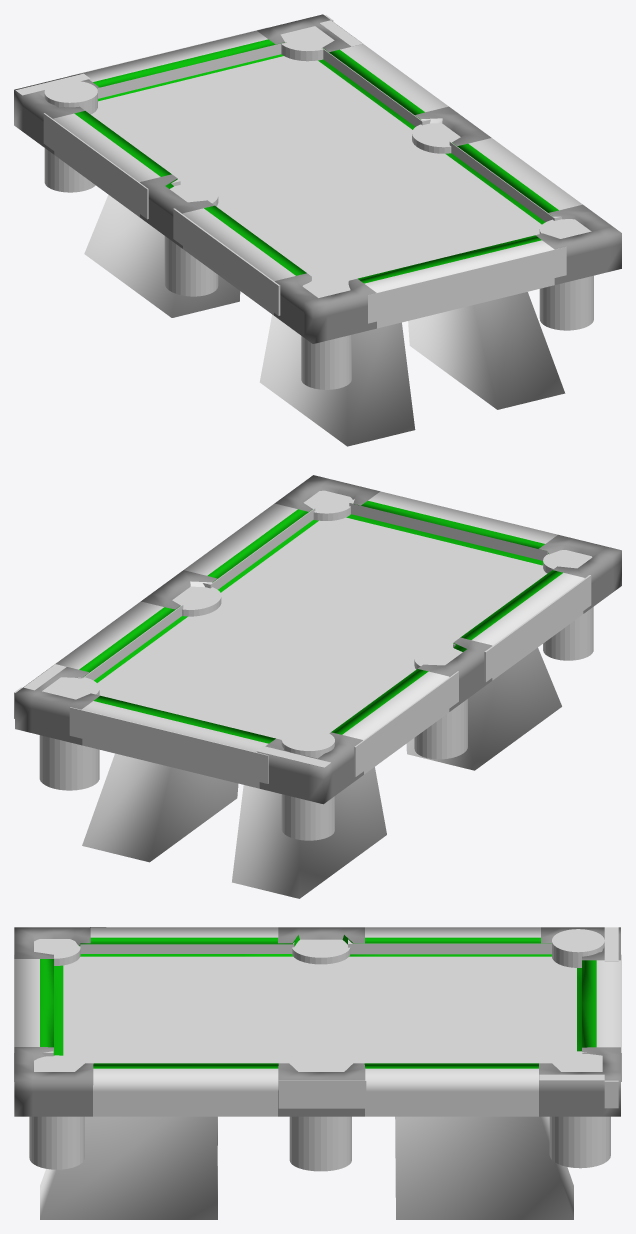
File: table0.glb
The picture shows the model from 3 angles, top to bottom: view 1: azimuth 30°, elevation 25°; view 2: azimuth 150°, elevation 25°; view 3: azimuth 270°, elevation 25°; orthographic projection.
Visible parts, largest first — view 1: Plane.001, main, box5, box3, box4, hole4, hole5, hole6, hole2, box6, hole3, box2 (+2 smaller); view 2: Plane.001, main, box6, hole3, box3, hole2, box4, hole6, hole5, box5, box2, hole1 (+2 smaller); view 3: Plane.001, main, hole1, hole3, hole4, box12, box4, box3, hole2, hole6, hole5, box8 (+2 smaller).
Boxes of the visible parts, <box> form: Plane.001: <box>14,14,621,446</box>; main: <box>91,56,541,283</box>; box5: <box>348,232,566,323</box>; box3: <box>173,208,311,315</box>; box4: <box>43,113,180,219</box>; hole4: <box>539,219,593,330</box>; hole5: <box>301,278,351,389</box>; hole6: <box>164,183,218,296</box>; hole2: <box>44,80,97,192</box>; box6: <box>69,27,286,98</box>; hole3: <box>280,26,334,61</box>; box2: <box>449,140,561,221</box>; Plane.001: <box>15,475,621,898</box>; main: <box>97,517,547,739</box>; box6: <box>69,693,268,783</box>; hole3: <box>39,677,99,790</box>; box3: <box>453,575,591,682</box>; hole2: <box>281,729,334,840</box>; box4: <box>354,663,458,777</box>; hole6: <box>414,646,467,759</box>; hole5: <box>543,550,593,660</box>; box5: <box>349,499,548,560</box>; box2: <box>203,507,315,589</box>; hole1: <box>172,586,221,616</box>; Plane.001: <box>14,927,620,1219</box>; main: <box>63,956,576,1063</box>; hole1: <box>289,1058,351,1171</box>; hole3: <box>549,1051,610,1168</box>; hole4: <box>29,1055,84,1169</box>; box12: <box>278,1080,366,1108</box>; box4: <box>348,939,551,954</box>; box3: <box>80,942,294,953</box>; hole2: <box>552,929,604,967</box>; hole6: <box>292,939,350,964</box>; hole5: <box>34,939,80,965</box>; box8: <box>604,927,618,961</box>.
Bounding box in the file's own units: 2.95 × 1.47 × 4.88.
